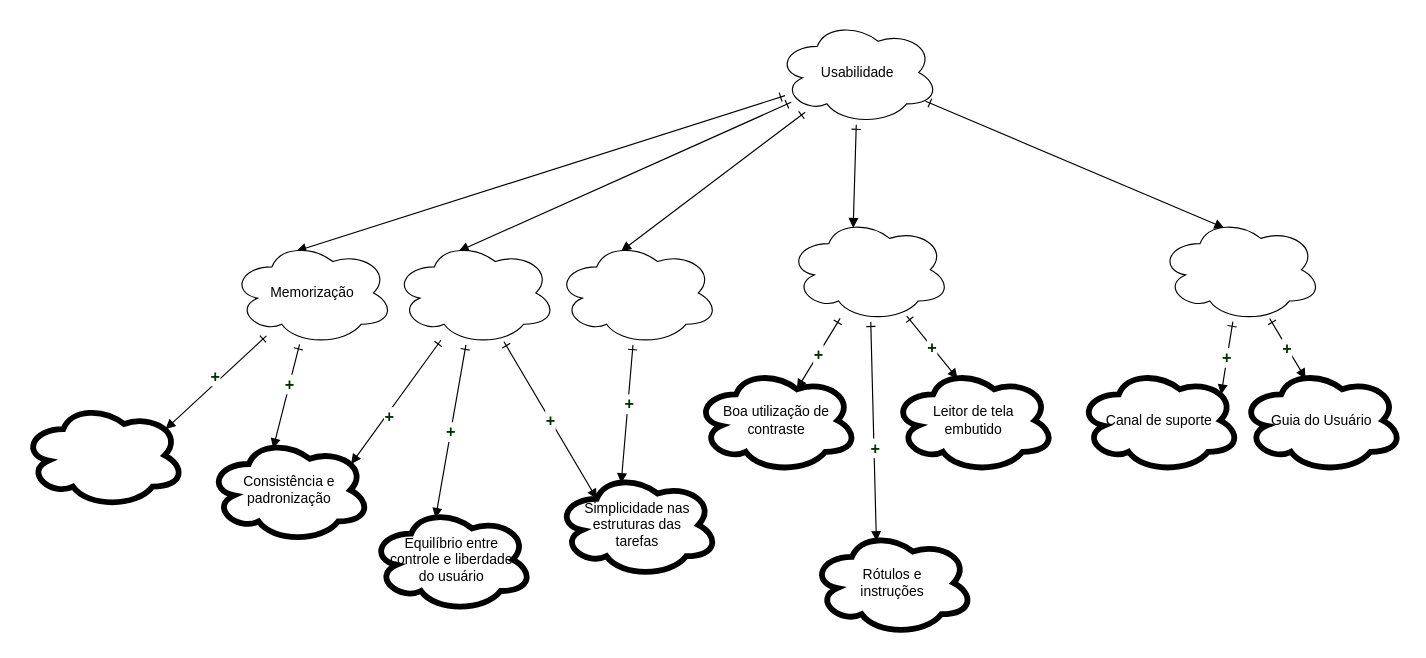
Some shapes in this 1426 by 658 pixel diagram are drawn without their labels. The shapes that lost their labels are listed below. From the top down, each one's centre as x and y in pixels, then its label:
[869,269]: Acessibilidade
[1240,269]: Suporte ao Usuário
[474,292]: Aprendizagem
[637,292]: Prevenção contra erros
[103,455]: Antecipação das necessidades do usuário
